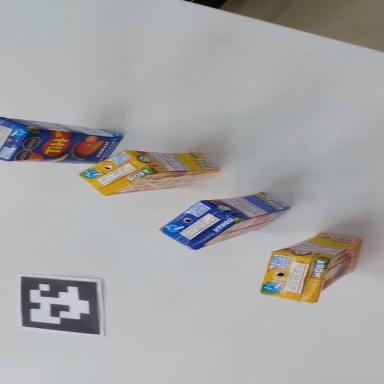HIT-MANGO: (155, 175, 292, 259), (0, 117, 123, 175)
HIT-MORA: (260, 224, 362, 310), (78, 140, 221, 198)
